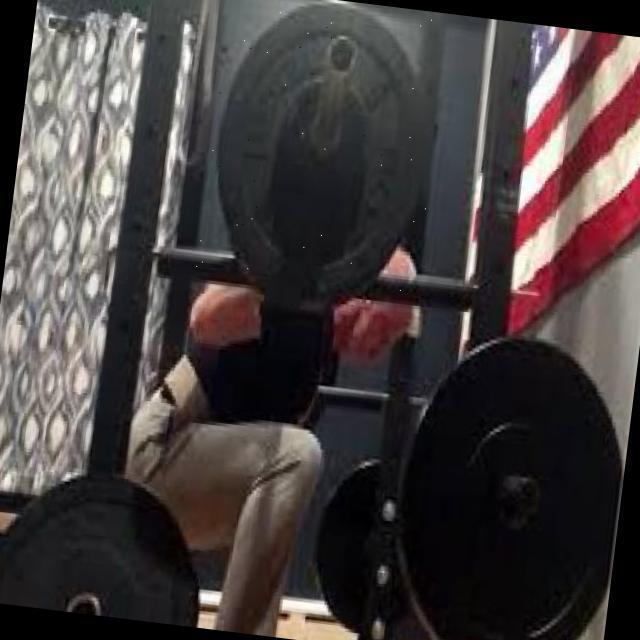barbell: (192, 1, 462, 328)
